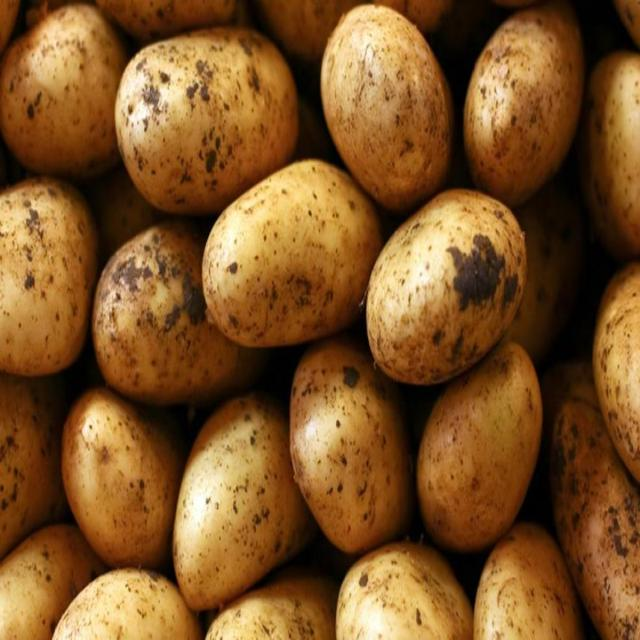papa: (193, 164, 379, 340)
